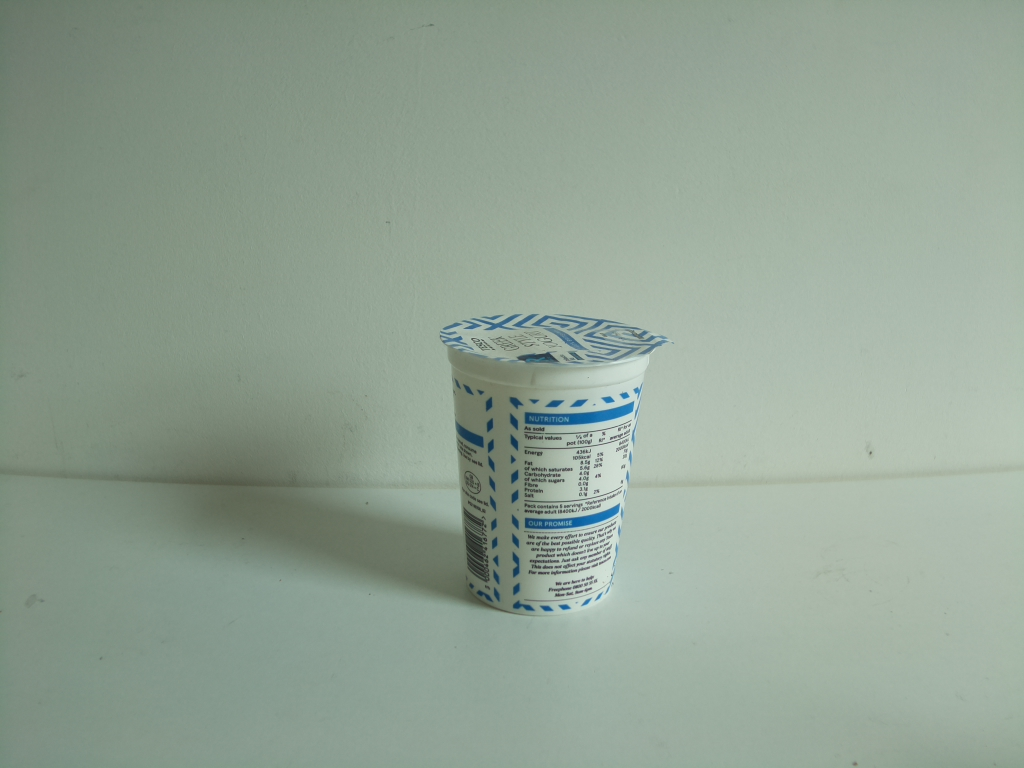yogurt: (431, 308, 673, 626)
